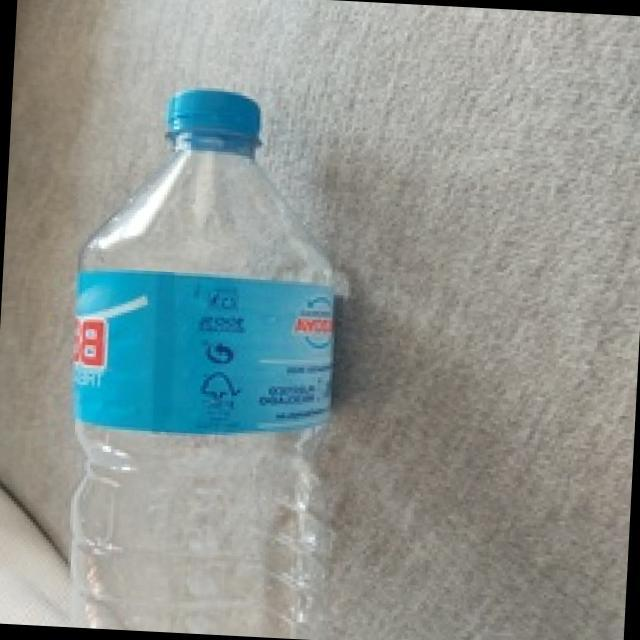good: (51, 69, 369, 639)
